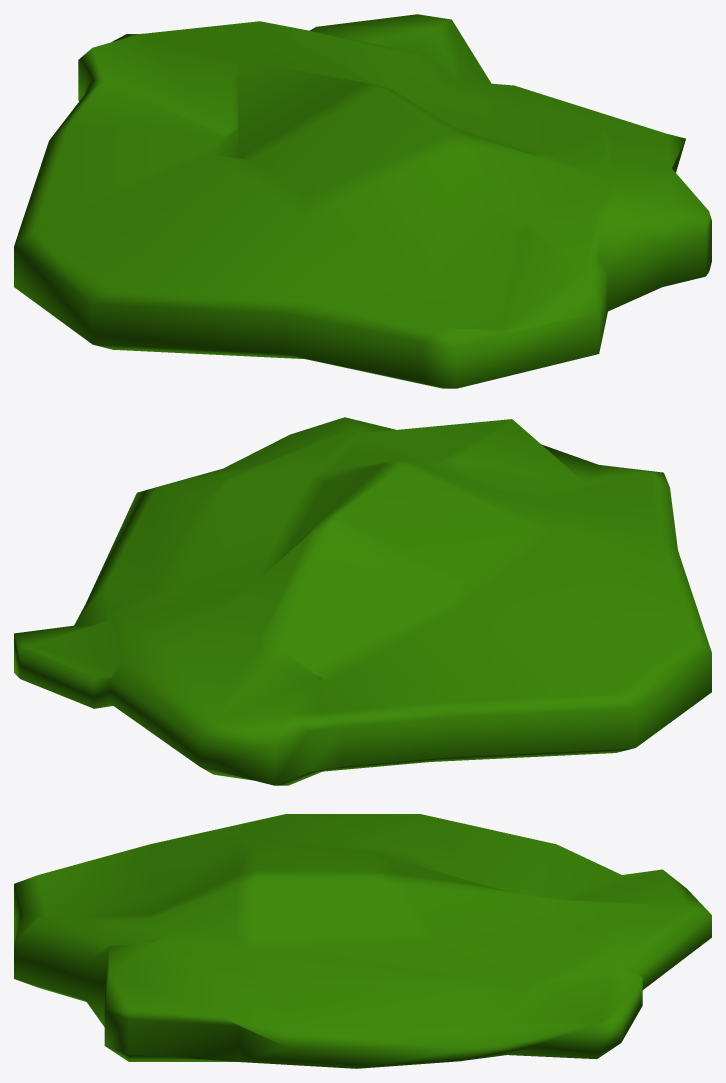
Rendered from Acid.fbx.
3 views of the same model, one above another, from view 1: azimuth 30°, elevation 25°; view 2: azimuth 150°, elevation 25°; view 3: azimuth 270°, elevation 25° (orthographic). The views are drawn at different scales.
Parts seen in each view (by area): view 1: pCube1; view 2: pCube1; view 3: pCube1.
Boxes of the visible parts, x1,y1,x2,y2 form: pCube1: (14,14,711,388); pCube1: (14,417,711,785); pCube1: (14,814,711,1068).
Size of the model in its own units: 7.93 by 1.91 by 9.36.
